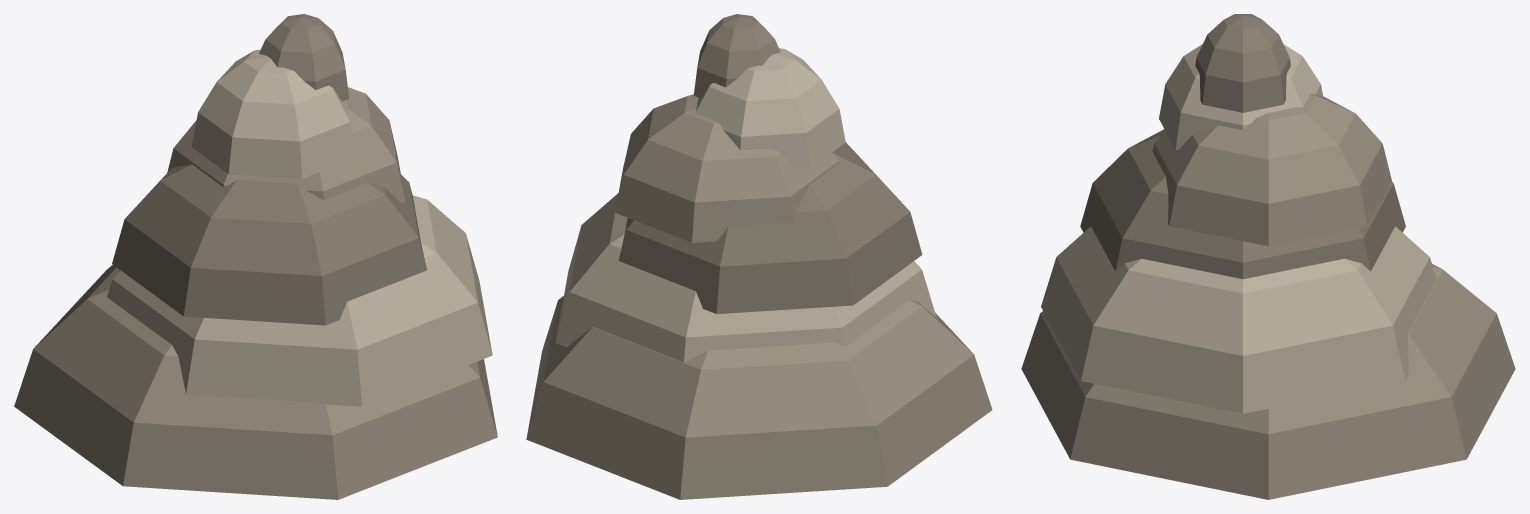
Rendered from altovista_cairn.glb.
3 views of the same model, side by side, from view 1: azimuth 30°, elevation 25°; view 2: azimuth 150°, elevation 25°; view 3: azimuth 270°, elevation 25° (orthographic). The views are drawn at different scales.
Parts seen in each view (by area): view 1: altovista_cairn_lod0; view 2: altovista_cairn_lod0; view 3: altovista_cairn_lod0.
Part boxes in pixels (left/top/right/bottom): altovista_cairn_lod0: left=14, top=14, right=497, bottom=499; altovista_cairn_lod0: left=526, top=14, right=992, bottom=499; altovista_cairn_lod0: left=1021, top=14, right=1515, bottom=499.
Size of what is drawn, in the model's own units: 4.18 by 3.73 by 4.29.
